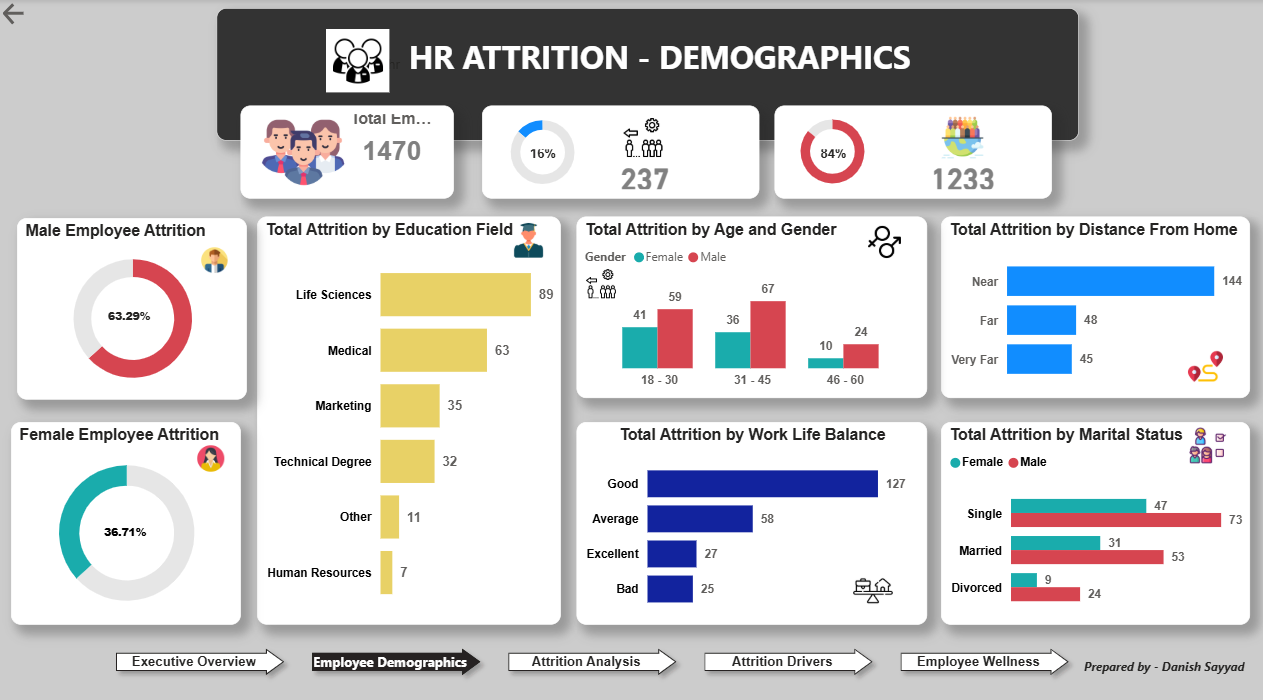

What the dashboard file says about the page in this screenshot:
{"tool":"powerbi","page":{"name":"Employee Demographics","canvas":[1280,720],"ordinal":1},"visuals":[{"type":"textbox","box":[219.7,8.7,870.8,134.1],"z":0},{"type":"image","box":[329.5,30.1,64.1,64.1],"z":1000},{"type":"cardVisual","fields":{"Data":["Sum(HR-Employee-Attrition.EmployeeCount)"]},"box":[243.8,107.5,215,93.9],"z":2000},{"type":"shape","box":[486.9,106.9,279.9,94.3],"z":3000},{"type":"donutChart","fields":{"Y":["Sum(HR-Employee-Attrition.Attrition Count)","Sum(HR-Employee-Attrition.EmployeeCount)"]},"box":[495.6,113.7,105.9,80.7],"z":4000},{"type":"card","fields":{"Values":["HR-Employee-Attrition.AttritionRate"]},"box":[529.7,142.9,37.9,23.3],"z":5000},{"type":"shape","box":[783.3,106.9,279.9,94.3],"z":6000},{"type":"donutChart","fields":{"Y":["Sum(HR-Employee-Attrition.Attrition Count)","Sum(HR-Employee-Attrition.EmployeeCount)"]},"box":[789.2,113.7,105,80.7],"z":7000},{"type":"card","fields":{"Values":["HR-Employee-Attrition.AERate"]},"box":[823.2,142.9,36.9,23.3],"z":8000},{"type":"image","box":[601.6,113.7,98.2,52.5],"z":9000},{"type":"card","fields":{"Values":["Sum(HR-Employee-Attrition.Attrition Count)"]},"box":[597.7,161.3,106.9,35],"z":10000},{"type":"card","fields":{"Values":["HR-Employee-Attrition.Active Employee"]},"box":[919.4,161.3,106.9,35],"z":11000},{"type":"image","box":[923.3,113.7,98.2,52.5],"z":12000},{"type":"barChart","title":"Total Attrition by Education Field","fields":{"Category":["HR-Employee-Attrition.EducationField"],"Y":["Sum(HR-Employee-Attrition.Attrition Count)"]},"box":[260.7,219.9,306.8,412.3],"z":13000},{"type":"barChart","title":"Total Attrition by Work Life Balance","fields":{"Category":["HR-Employee-Attrition.WorkLifeBalance (groups)"],"Y":["Sum(HR-Employee-Attrition.Attrition Count)"]},"box":[582.6,427.4,353.8,204.8],"z":14000},{"type":"image","box":[845,572.8,74.5,49.7],"z":15000},{"type":"barChart","title":"Total Attrition by Distance From Home","fields":{"Category":["HR-Employee-Attrition.DistanceFromHome (groups)"],"Y":["Sum(HR-Employee-Attrition.Attrition Count)"]},"box":[950.5,219.9,312.1,183.5],"z":16000},{"type":"image","box":[1179.3,348.5,76.3,45.2],"z":17000},{"type":"clusteredColumnChart","title":"Total Attrition by Age and Gender","fields":{"Category":["HR-Employee-Attrition.Age (groups)"],"Y":["Sum(HR-Employee-Attrition.Attrition Count)"],"Series":["HR-Employee-Attrition.Gender"]},"box":[582.6,219.9,353.8,183.5],"z":18000},{"type":"clusteredBarChart","title":"Total Attrition by Marital Status","fields":{"Category":["HR-Employee-Attrition.MaritalStatus"],"Y":["Sum(HR-Employee-Attrition.Attrition Count)"],"Series":["HR-Employee-Attrition.Gender"]},"box":[950.5,427.4,312.1,204.8],"z":19000},{"type":"image","box":[1183.7,427.4,71.8,47],"z":20000},{"type":"donutChart","title":"Male Employee Attrition ","fields":{"Category":["HR-Employee-Attrition.Gender"],"Y":["Sum(HR-Employee-Attrition.Attrition Count)"]},"box":[17.7,221.7,232.3,183.5],"z":21000},{"type":"donutChart","title":"Female Employee Attrition","fields":{"Category":["HR-Employee-Attrition.Gender"],"Y":["Sum(HR-Employee-Attrition.Attrition Count)"]},"box":[11.5,427.4,232.3,204.8],"z":22000},{"type":"image","box":[190.6,445.1,46.1,37.2],"z":23000},{"type":"image","box":[190.6,245.6,53.2,36.4],"z":24000},{"type":"image","box":[582.9,266.9,49.1,41.8],"z":25000},{"type":"image","box":[503.4,219.7,64.1,47.6],"z":26000},{"type":"card","fields":{"Values":["HR-Employee-Attrition.MaleAtrPercentage"]},"box":[102.9,297,55.9,51.4],"z":27000},{"type":"card","fields":{"Values":["HR-Employee-Attrition.FemaleAtrPercentage"]},"box":[95.8,509,63,63.8],"z":28000},{"type":"pageNavigator","box":[109,646.6,981.2,45.4],"z":29000},{"type":"actionButton","box":[0,0,69.2,30.1],"z":30000},{"type":"image","box":[856,222.6,77,45.2],"z":31000},{"type":"textbox","box":[1090.2,658.7,172.6,33.3],"z":31001}]}

Visuals, with their boxes in screenshot pixels (x1, y1, x2, y2), scaled from the page's 1280x720 canvas onto the 1263x700 screenshot:
textbox: [217,8,1076,139]
image: [325,29,388,92]
cardVisual - Sum(HR-Employee-Attrition.EmployeeCount): [241,105,453,196]
shape: [480,104,757,196]
donutChart - Sum(HR-Employee-Attrition.Attrition Count) x Sum(HR-Employee-Attrition.EmployeeCount): [489,111,594,189]
card - HR-Employee-Attrition.AttritionRate: [523,139,560,162]
shape: [773,104,1049,196]
donutChart - Sum(HR-Employee-Attrition.Attrition Count) x Sum(HR-Employee-Attrition.EmployeeCount): [779,111,882,189]
card - HR-Employee-Attrition.AERate: [812,139,849,162]
image: [594,111,691,162]
card - Sum(HR-Employee-Attrition.Attrition Count): [590,157,695,191]
card - HR-Employee-Attrition.Active Employee: [907,157,1013,191]
image: [911,111,1008,162]
"Total Attrition by Education Field" barChart: [257,214,560,615]
"Total Attrition by Work Life Balance" barChart: [575,416,924,615]
image: [834,557,907,605]
"Total Attrition by Distance From Home" barChart: [938,214,1246,392]
image: [1164,339,1239,383]
"Total Attrition by Age and Gender" clusteredColumnChart: [575,214,924,392]
"Total Attrition by Marital Status" clusteredBarChart: [938,416,1246,615]
image: [1168,416,1239,461]
"Male Employee Attrition " donutChart: [17,216,247,394]
"Female Employee Attrition" donutChart: [11,416,241,615]
image: [188,433,234,469]
image: [188,239,241,274]
image: [575,259,624,300]
image: [497,214,560,260]
card - HR-Employee-Attrition.MaleAtrPercentage: [102,289,157,339]
card - HR-Employee-Attrition.FemaleAtrPercentage: [95,495,157,557]
pageNavigator: [108,629,1076,673]
actionButton: [0,0,68,29]
image: [845,216,921,260]
textbox: [1076,640,1246,673]
